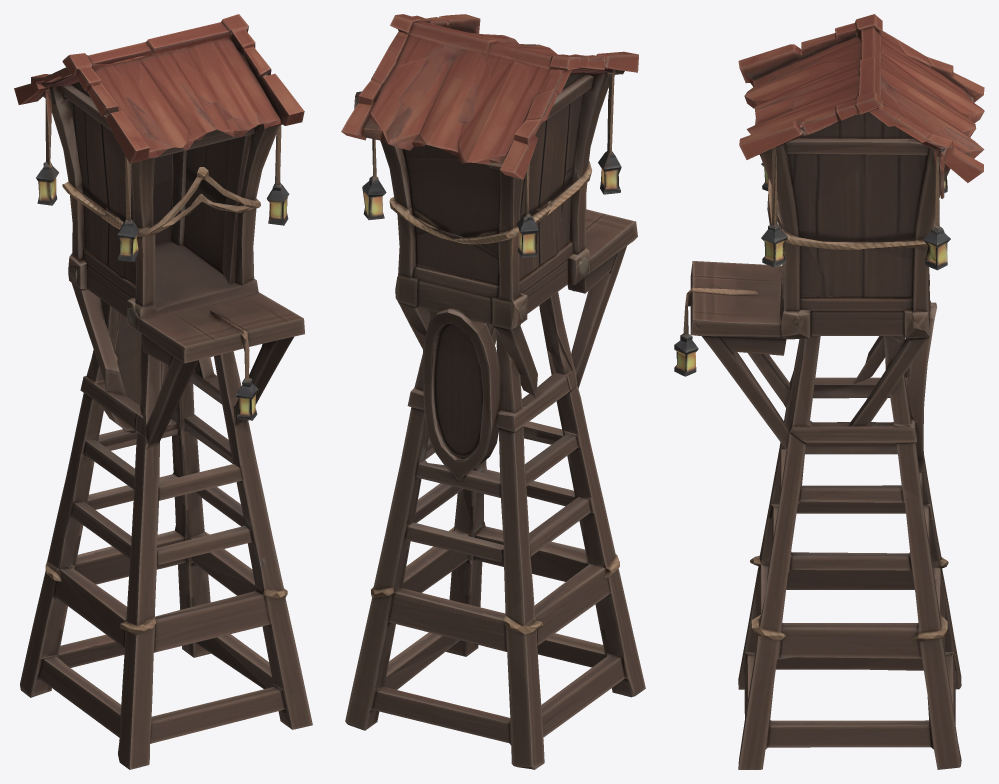
The model's file is ladder_post.glb.
3 renders of one model, left to right at view 1: azimuth 30°, elevation 25°; view 2: azimuth 150°, elevation 25°; view 3: azimuth 270°, elevation 25°, orthographic. The views are drawn at different scales.
Visible parts, largest first — view 1: ladder_post; view 2: ladder_post; view 3: ladder_post.
Part boxes in pixels (x1=…): ladder_post: x1=14, y1=14, x2=312, y2=769; ladder_post: x1=341, y1=14, x2=645, y2=769; ladder_post: x1=674, y1=14, x2=984, y2=769.
Size of the model in its own units: 2.92 by 10 by 4.2.
1 material, 1 textured.
